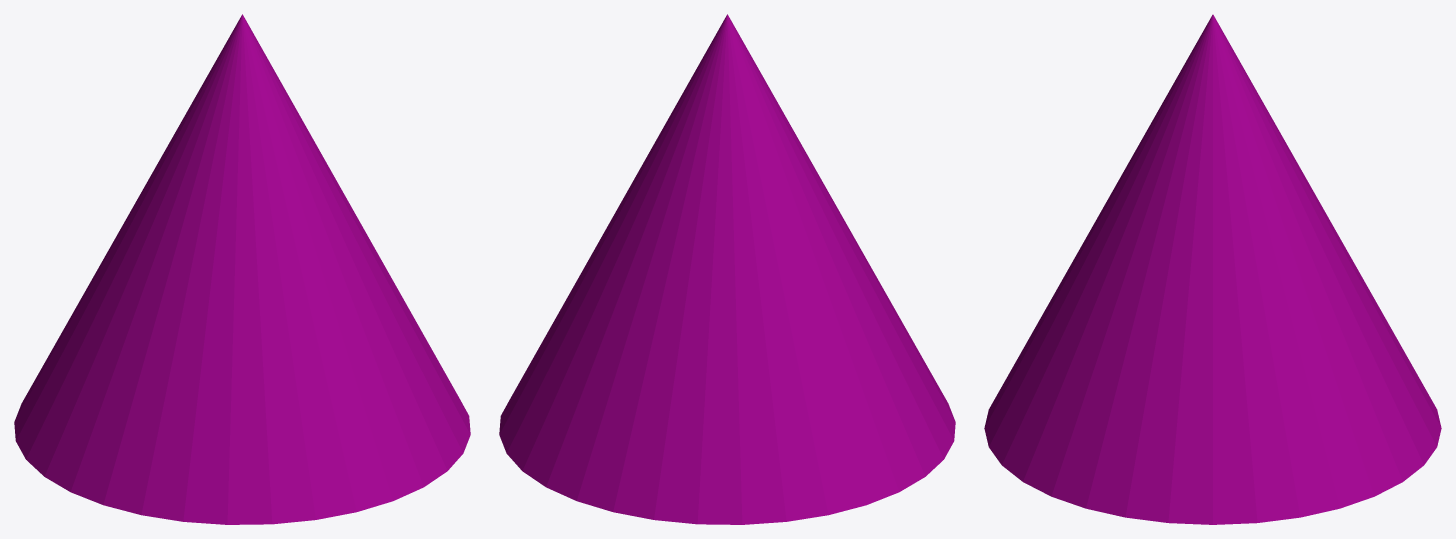
Rendered from toge.obj.
The picture shows the model from 3 angles, left to right: view 1: azimuth 30°, elevation 25°; view 2: azimuth 150°, elevation 25°; view 3: azimuth 270°, elevation 25°; orthographic projection.
Parts seen in each view (by area): view 1: 円錐; view 2: 円錐; view 3: 円錐.
Boxes of the visible parts, x1,y1,x2,y2 form: 円錐: (14,14,470,524); 円錐: (499,14,955,524); 円錐: (984,14,1441,524).
Bounding box in the file's own units: 2.1 × 2.1 × 2.1.
